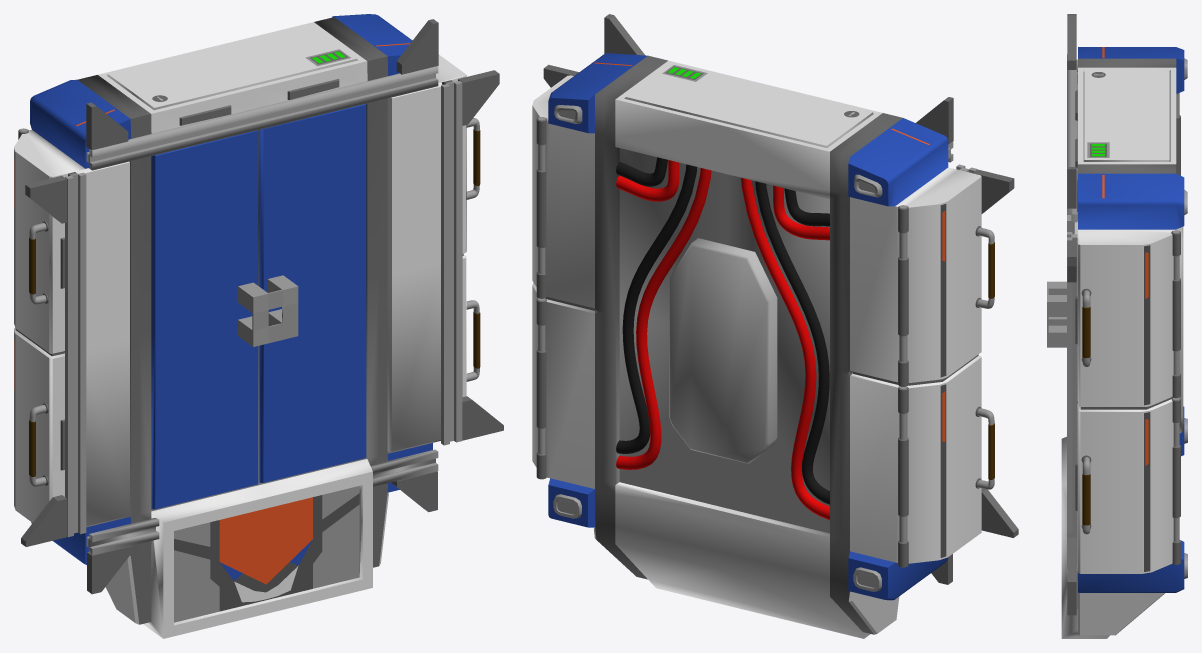
The model's file is Main_body.glb.
3 renders of one model, left to right at view 1: azimuth 30°, elevation 25°; view 2: azimuth 150°, elevation 25°; view 3: azimuth 270°, elevation 25°, orthographic. The views are drawn at different scales.
Visible parts, largest first — view 1: Main_body; view 2: Main_body; view 3: Main_body.
Boxes of the visible parts, box(x1,y1,x2,y2) form: Main_body: box(14, 14, 503, 638); Main_body: box(532, 14, 1018, 638); Main_body: box(1047, 14, 1187, 638).
Size of the model in its own units: 0.5155 by 0.5665 by 0.1435.
